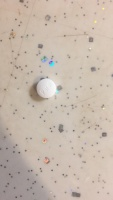Parol: (35, 78, 58, 100)
